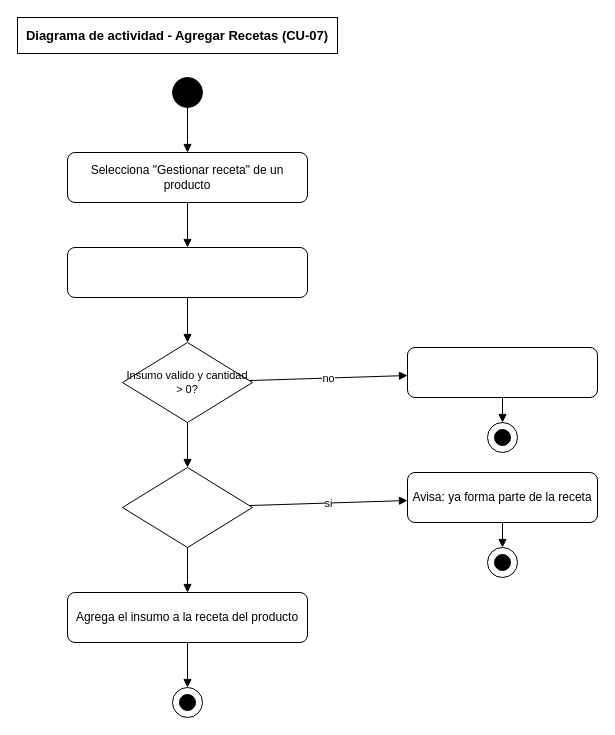
Image size: 615x735. Some labels were removed from this diagram. Each missing label, with the box of its shape:
El insumo ya esta en la receta?: (122, 466, 252, 548)
Elige un insumo e ingresa la cantidad, pulsa "Agregar": (66, 246, 308, 298)
Muestra error de validacion: (406, 346, 598, 398)
